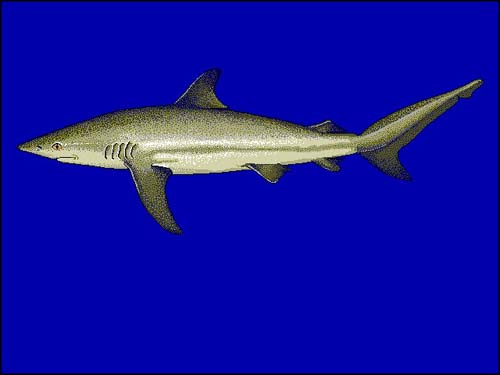fish: (16, 68, 484, 236)
